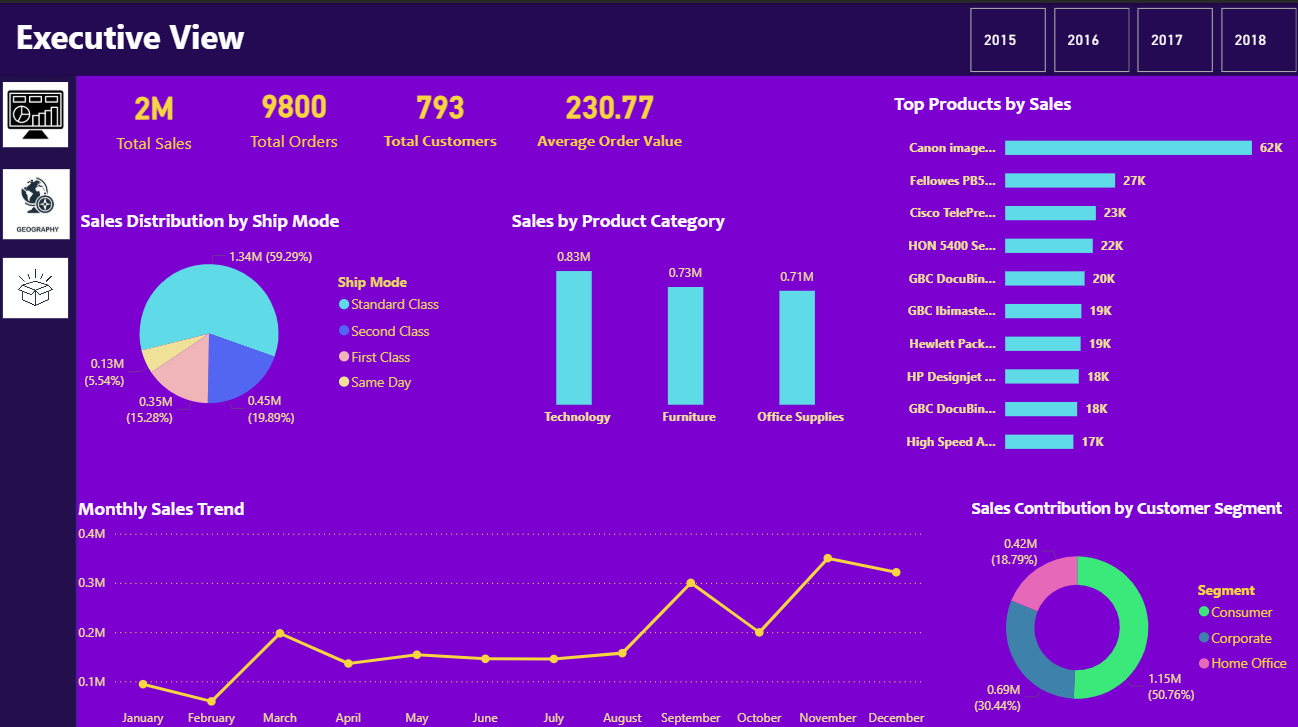

The dashboard page shown, as its layout file describes it:
{"tool":"powerbi","page":{"name":"Page 1","canvas":[1280,720],"ordinal":0},"visuals":[{"type":"image","box":[0,245.6,74.1,68.6],"z":0},{"type":"image","box":[0,157.8,75.5,78.2],"z":1000},{"type":"image","box":[0,71.4,74.1,76.8],"z":2000},{"type":"shape","box":[0,0,1280.3,71.4],"z":3000},{"type":"textbox","box":[12.3,6.1,258.9,57.7],"z":4000},{"type":"pieChart","title":" Sales Distribution by Ship Mode","fields":{"Category":["sales_data.Ship Mode"],"Y":["Sum(sales_data.Sales)"]},"box":[76.1,202.5,370.6,222.1],"z":5000},{"type":"clusteredBarChart","title":"Top Products by Sales","fields":{"Y":["Sum(sales_data.Sales)"],"Category":["sales_data.Product Name"]},"box":[874.9,87.1,404.9,369.3],"z":6000},{"type":"donutChart","title":"Sales Contribution by Customer Segment","fields":{"Category":["sales_data.Segment"],"Y":["Sum(sales_data.Sales)"]},"box":[936.2,484.7,343.6,235.6],"z":7000},{"type":"lineChart","title":"Monthly Sales Trend","fields":{"Y":["Sum(sales_data.Sales)"],"Category":["sales_data.Order Date.Variation.Date Hierarchy.Month"]},"box":[73.6,484.7,844.2,235.6],"z":8000},{"type":"clusteredColumnChart","title":" Sales by Product Category","fields":{"Category":["sales_data.Category"],"Y":["Sum(sales_data.Sales)"]},"box":[499.4,202.5,358.3,222.1],"z":9000},{"type":"advancedSlicerVisual","fields":{"Values":["sales_data.Year"]},"box":[949.7,0,330.1,73.6],"z":10000},{"type":"card","fields":{"Values":["Measures (2).Total Sales"]},"box":[73.6,63.8,159.5,96.9],"z":11000},{"type":"card","fields":{"Values":["Measures (2).Total Orders"]},"box":[211,61.4,159.5,96.9],"z":12000},{"type":"card","fields":{"Values":["Measures (2).Total Customers"]},"box":[354.6,61.4,159.5,96.9],"z":13000},{"type":"card","fields":{"Values":["Measures (2).Average Order Value"]},"box":[522.7,61.4,155.8,96.9],"z":14000}]}

Visuals, with their boxes in screenshot pixels (x1, y1, x2, y2), scaled from the page's 1280x720 canvas onto the 1298x727 screenshot:
image: x1=0, y1=248, x2=75, y2=317
image: x1=0, y1=159, x2=77, y2=238
image: x1=0, y1=72, x2=75, y2=150
shape: x1=0, y1=0, x2=1297, y2=72
textbox: x1=12, y1=6, x2=275, y2=64
" Sales Distribution by Ship Mode" pieChart: x1=77, y1=204, x2=453, y2=429
"Top Products by Sales" clusteredBarChart: x1=887, y1=88, x2=1297, y2=461
"Sales Contribution by Customer Segment" donutChart: x1=949, y1=489, x2=1297, y2=726
"Monthly Sales Trend" lineChart: x1=75, y1=489, x2=931, y2=726
" Sales by Product Category" clusteredColumnChart: x1=506, y1=204, x2=870, y2=429
advancedSlicerVisual - sales_data.Year: x1=963, y1=0, x2=1297, y2=74
card - Measures (2).Total Sales: x1=75, y1=64, x2=236, y2=162
card - Measures (2).Total Orders: x1=214, y1=62, x2=376, y2=160
card - Measures (2).Total Customers: x1=360, y1=62, x2=521, y2=160
card - Measures (2).Average Order Value: x1=530, y1=62, x2=688, y2=160
